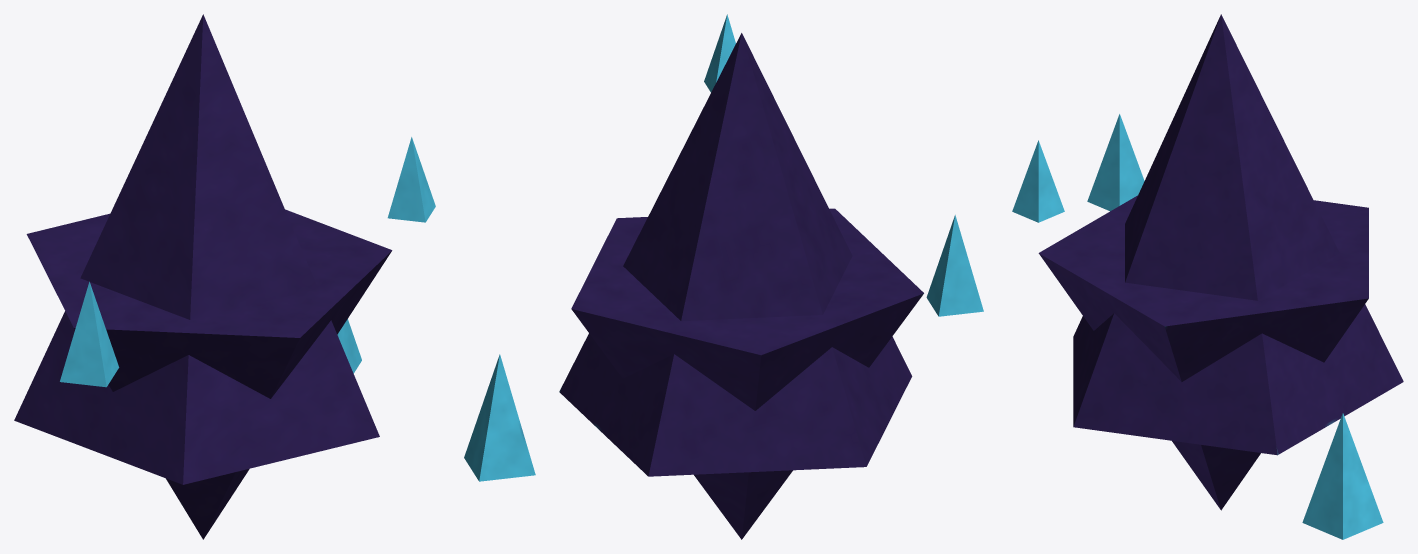
The model's file is floating_shard.fbx.
3 views of the same model, side by side, from view 1: azimuth 30°, elevation 25°; view 2: azimuth 150°, elevation 25°; view 3: azimuth 270°, elevation 25° (orthographic). The views are drawn at different scales.
Parts seen in each view (by area): view 1: Floating_shard; view 2: Floating_shard; view 3: Floating_shard.
Part boxes in pixels (bbox=[...]): Floating_shard: bbox=[14, 14, 435, 539]; Floating_shard: bbox=[464, 14, 983, 539]; Floating_shard: bbox=[1012, 14, 1403, 539].
Bounding box in the file's own units: 2.26 × 2.7 × 1.93.
1 material, 1 textured.
